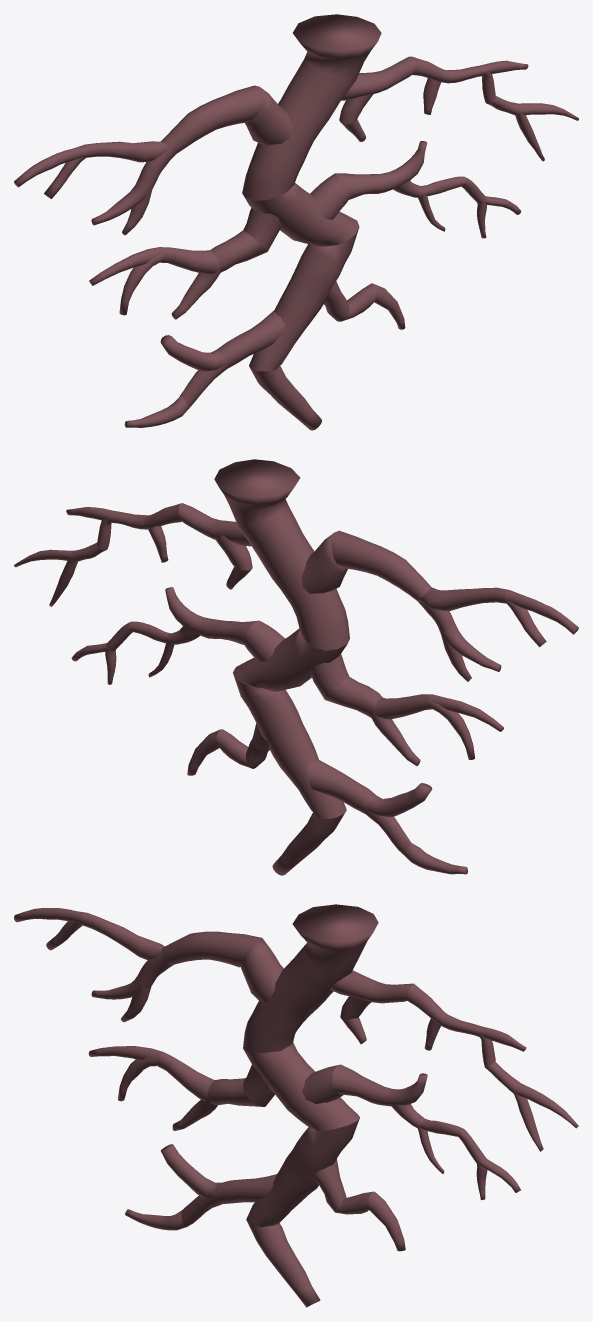
The model's file is Roots.fbx.
3 views of the same model, one above another, from view 1: azimuth 30°, elevation 25°; view 2: azimuth 150°, elevation 25°; view 3: azimuth 330°, elevation 25° (orthographic).
Parts seen in each view (by area): view 1: MainRoot.001, MainRoot.003, MainRoot.002, RootLV1_L.004, MainRoot.004, RootLV3_L.002, RootLV1_L.002, RootLV1_L.007, RootLV2_L.005, RootLV3_L, RootLV2_L, RootLV2_R.002 (+20 smaller); view 2: MainRoot.001, MainRoot.003, MainRoot.002, RootLV1_L.004, RootLV3_L.002, MainRoot.004, RootLV1_L.002, RootLV1_L.007, RootLV2_L.005, RootLV3_L, RootLV2_R.002, RootLV2_L (+18 smaller); view 3: MainRoot.001, MainRoot.003, MainRoot.002, RootLV1_L.004, MainRoot.004, RootLV1_L.002, RootLV1_L.007, RootLV2_R.004, RootLV3_L.002, RootLV3_L, RootLV2_L, RootLV2_L.005 (+19 smaller).
Part boxes in pixels (x1,y1,x2,y2): MainRoot.001: (242, 14, 381, 200); MainRoot.003: (249, 227, 359, 371); MainRoot.002: (243, 183, 359, 246); RootLV1_L.004: (160, 85, 264, 153); MainRoot.004: (250, 366, 321, 430); RootLV3_L.002: (216, 311, 284, 368); RootLV1_L.002: (245, 87, 292, 145); RootLV1_L.007: (85, 141, 169, 162); RootLV2_L.005: (210, 230, 266, 272); RootLV3_L: (160, 335, 226, 371); RootLV2_L: (160, 247, 219, 274); RootLV2_R.002: (310, 173, 348, 219); MainRoot.001: (214, 459, 349, 650); MainRoot.003: (235, 679, 346, 818); MainRoot.002: (233, 629, 347, 691); RootLV1_L.004: (330, 530, 431, 600); RootLV3_L.002: (308, 759, 376, 813); MainRoot.004: (272, 812, 345, 875); RootLV1_L.002: (302, 533, 347, 593); RootLV1_L.007: (418, 587, 509, 611); RootLV2_L.005: (325, 677, 382, 717); RootLV3_L: (365, 783, 432, 816); RootLV2_R.002: (244, 620, 285, 661); RootLV2_L: (373, 694, 432, 719); MainRoot.001: (243, 904, 378, 1052); MainRoot.003: (246, 1118, 359, 1227); MainRoot.002: (243, 1042, 359, 1131); RootLV1_L.004: (161, 931, 261, 967); MainRoot.004: (247, 1222, 320, 1307); RootLV1_L.002: (240, 938, 283, 1002); RootLV1_L.007: (80, 912, 164, 960); RootLV2_R.004: (332, 1064, 391, 1105); RootLV3_L.002: (214, 1174, 276, 1204); RootLV3_L: (161, 1144, 220, 1198); RootLV2_L: (157, 1052, 214, 1101); RootLV2_L.005: (207, 1078, 258, 1106).
Size of the model in its own units: 2071 by 1370 by 282.
